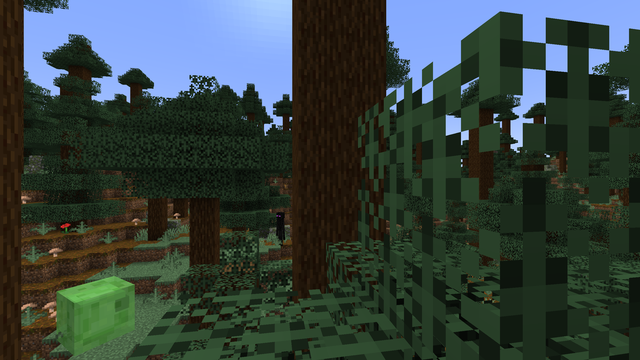endermens: (276, 210, 283, 245)
slimes: (47, 275, 136, 353)
